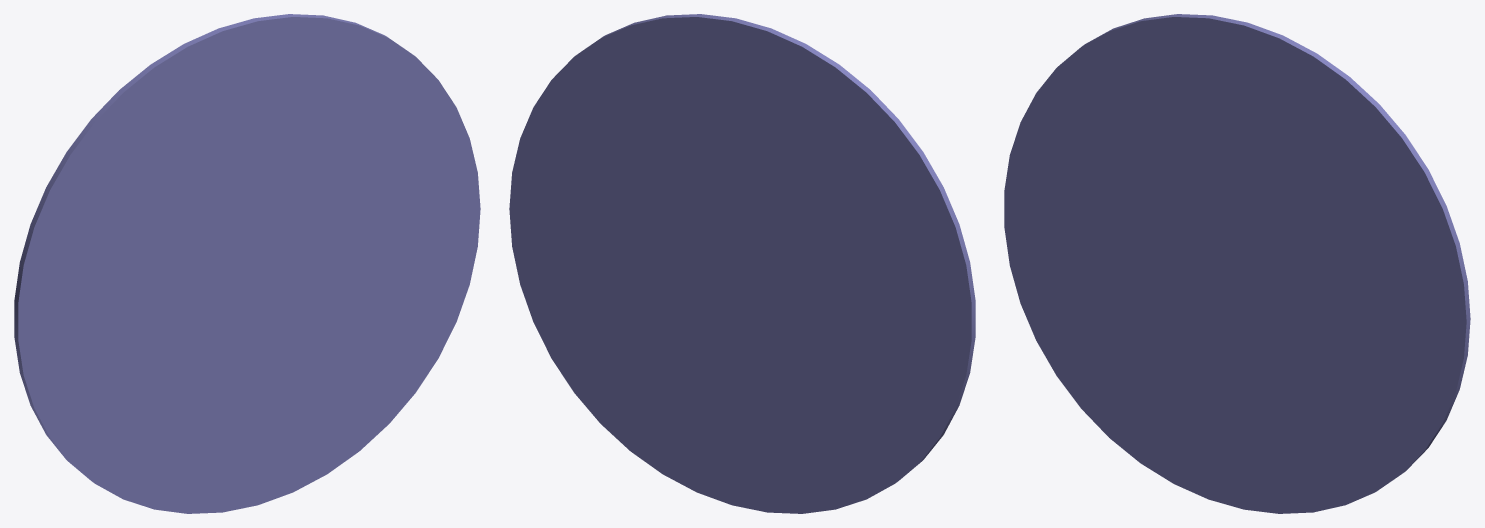
The model's file is port_cap_ShortingPin.obj.
The picture shows the model from 3 angles, left to right: view 1: azimuth 30°, elevation 25°; view 2: azimuth 150°, elevation 25°; view 3: azimuth 330°, elevation 25°; orthographic projection.
Bounding box in the file's own units: 10.76 × 10.77 × 0.1575.
